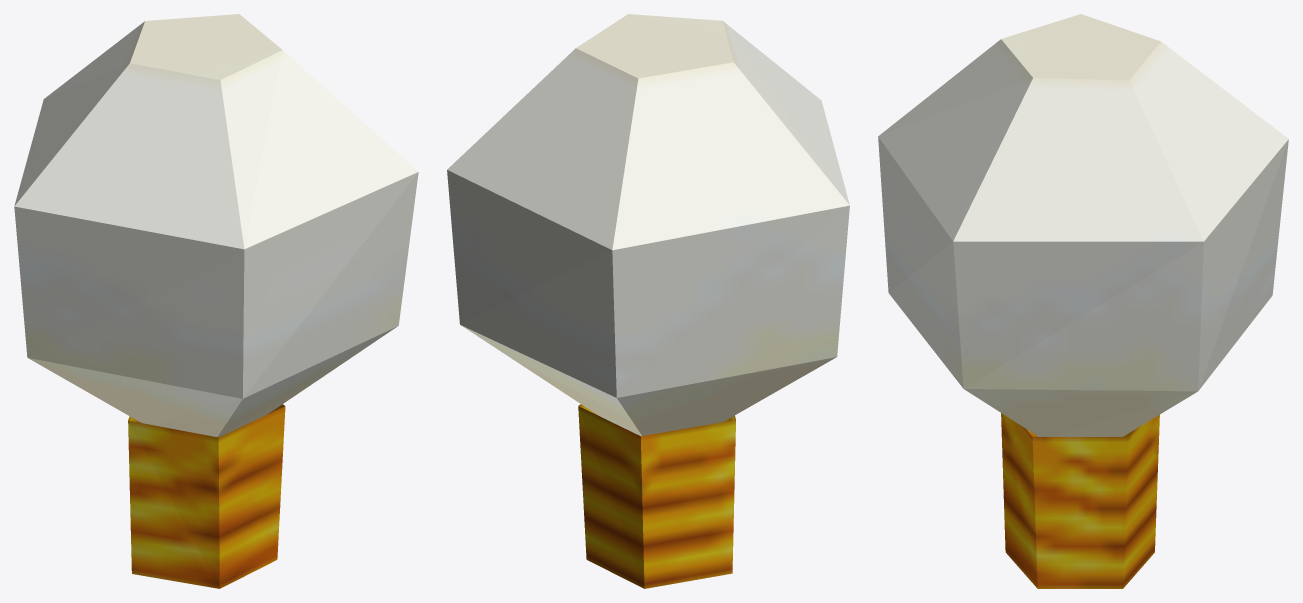
Rendered from Bulb.fbx.
3 renders of one model, left to right at view 1: azimuth 30°, elevation 25°; view 2: azimuth 150°, elevation 25°; view 3: azimuth 270°, elevation 25°, orthographic.
Size of the model in its own units: 1.85 by 2.65 by 1.92.
Materials: 2 (2 with a texture image).
